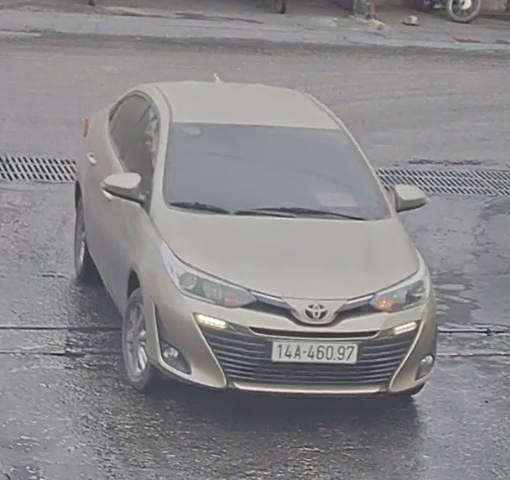vehicle plate: (269, 338, 365, 365)
